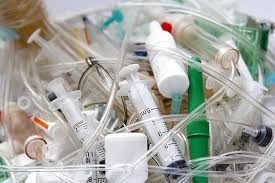glass: (167, 13, 240, 68)
plastic: (113, 61, 188, 183), (43, 76, 114, 174), (180, 52, 220, 183), (143, 17, 195, 102), (98, 129, 150, 183)
